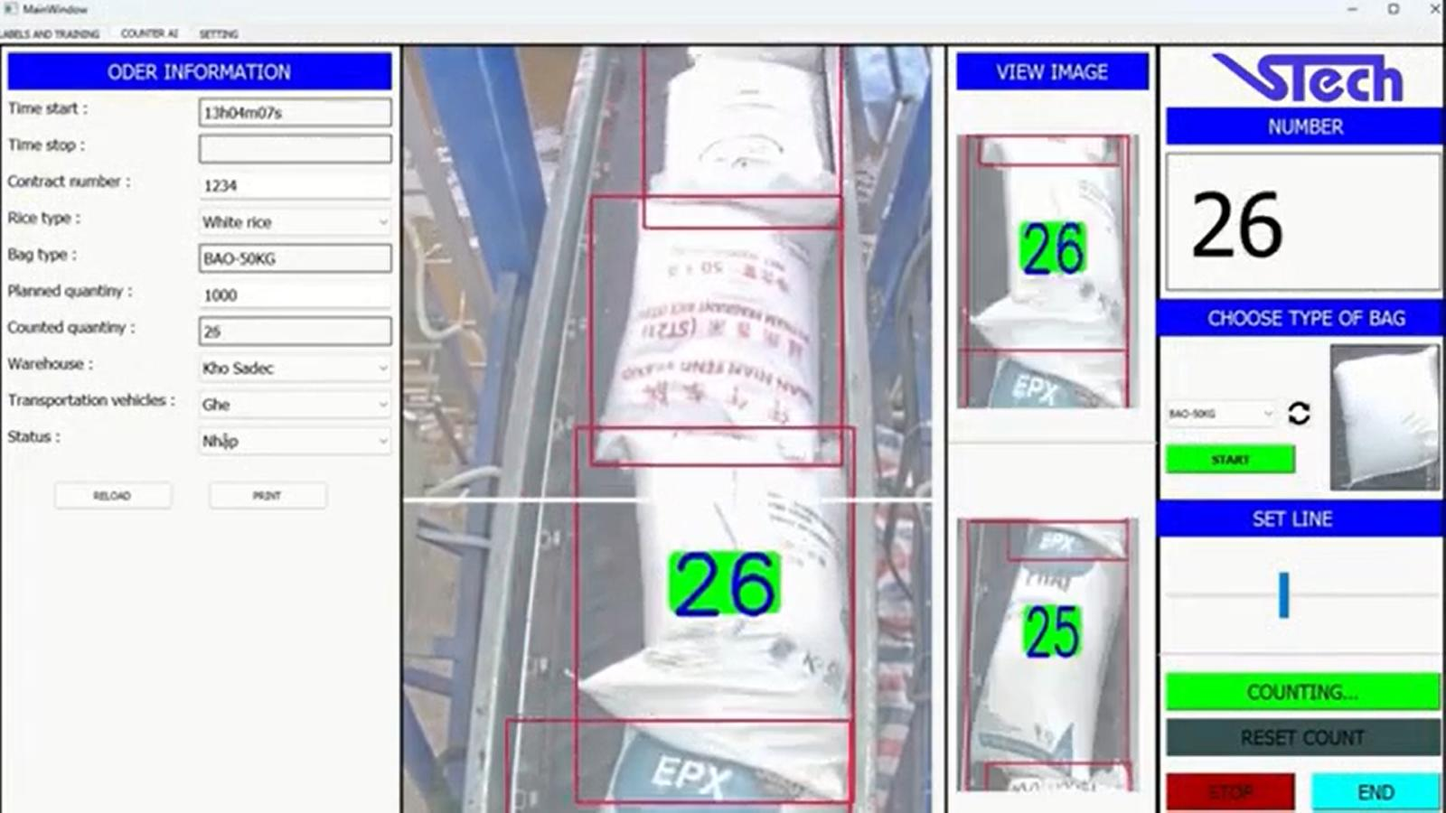rice-bag: (581, 470, 850, 719), (594, 201, 837, 465), (973, 137, 1127, 403), (971, 521, 1128, 780), (650, 49, 840, 225), (639, 722, 849, 796)
